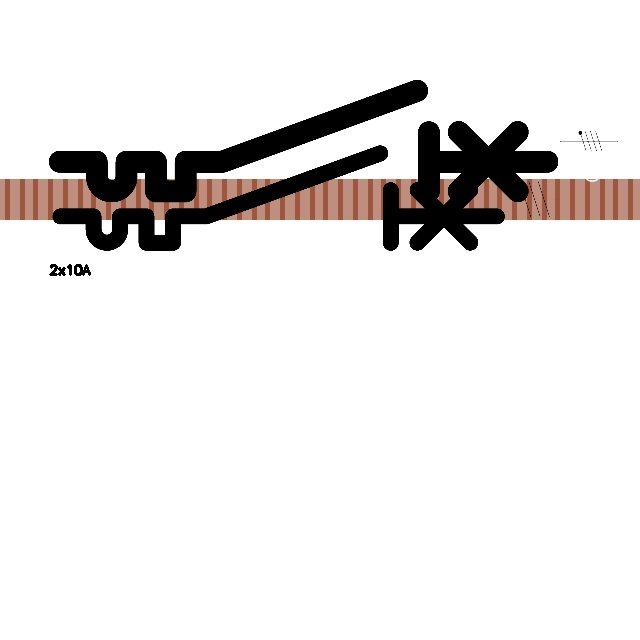interruptor_termomagnetico: (47, 78, 560, 204), (49, 142, 508, 254)
